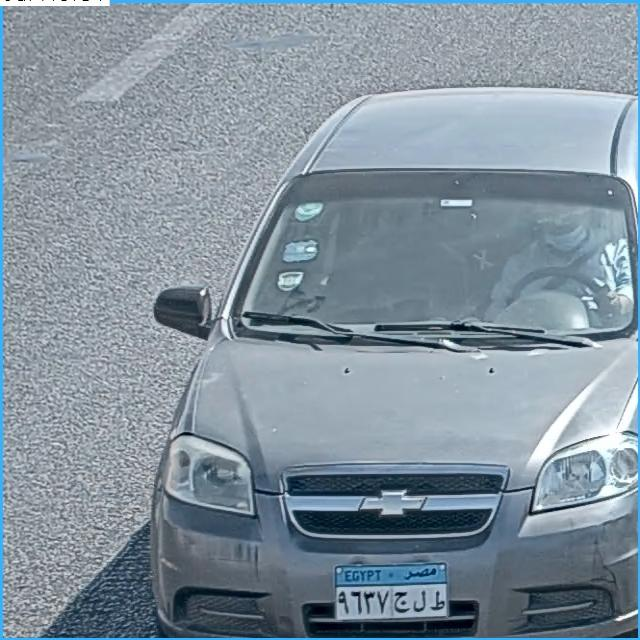windshield: (230, 179, 636, 332)
